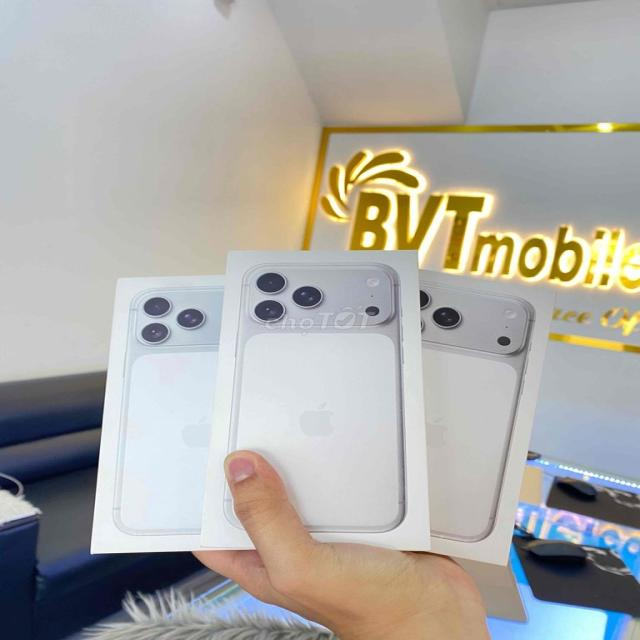gen_17: (220, 226, 426, 546)
